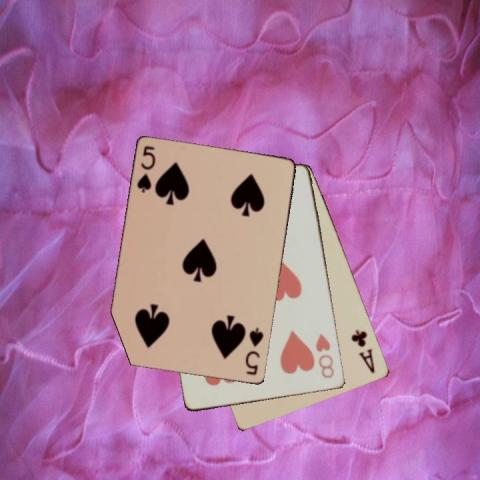5s: (134, 143, 157, 195), (243, 324, 265, 376)
8h: (313, 331, 336, 380)
Ac: (348, 326, 376, 374)
